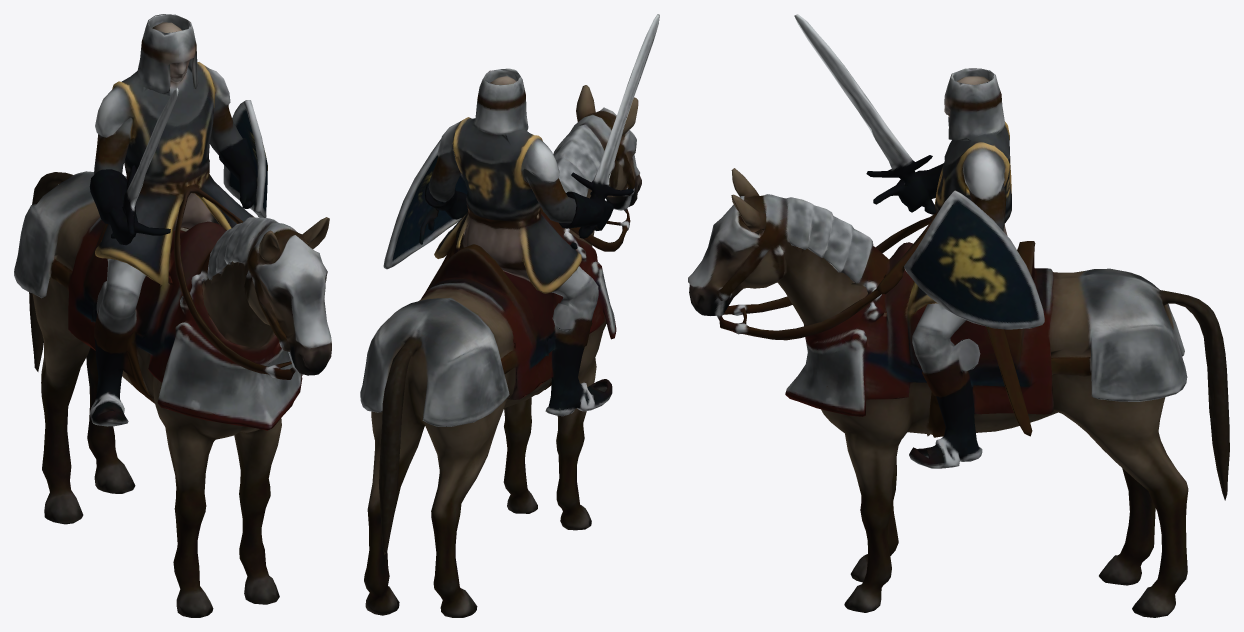
Rendered from realistic-medieval-knight.glb.
3 renders of one model, left to right at view 1: azimuth 30°, elevation 25°; view 2: azimuth 150°, elevation 25°; view 3: azimuth 270°, elevation 25°, orthographic. The views are drawn at different scales.
Visible parts, largest first — view 1: world; view 2: world; view 3: world.
Part boxes in pixels (x1=…): world: x1=14, y1=14, x2=331, y2=617; world: x1=360, y1=14, x2=659, y2=617; world: x1=688, y1=14, x2=1229, y2=617.
Size of the model in its own units: 0.3743 by 0.9987 by 0.9085.
Materials: 1 (1 with a texture image).
